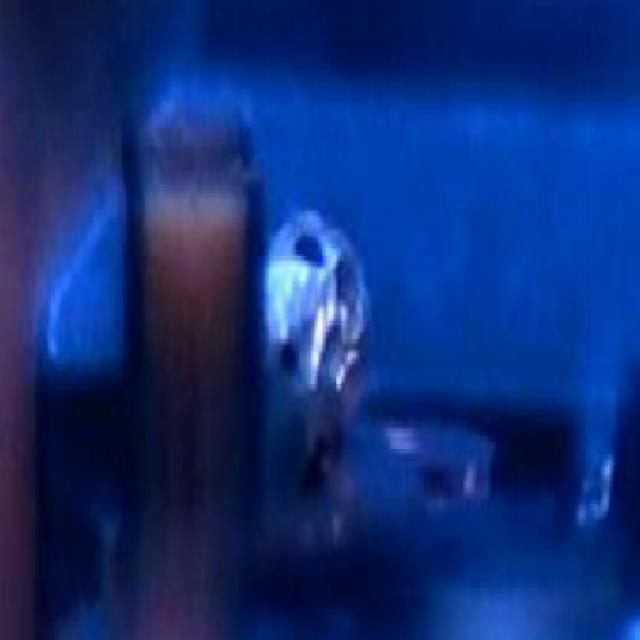Component: (103, 106, 269, 498)
Solder: (241, 213, 387, 513)
